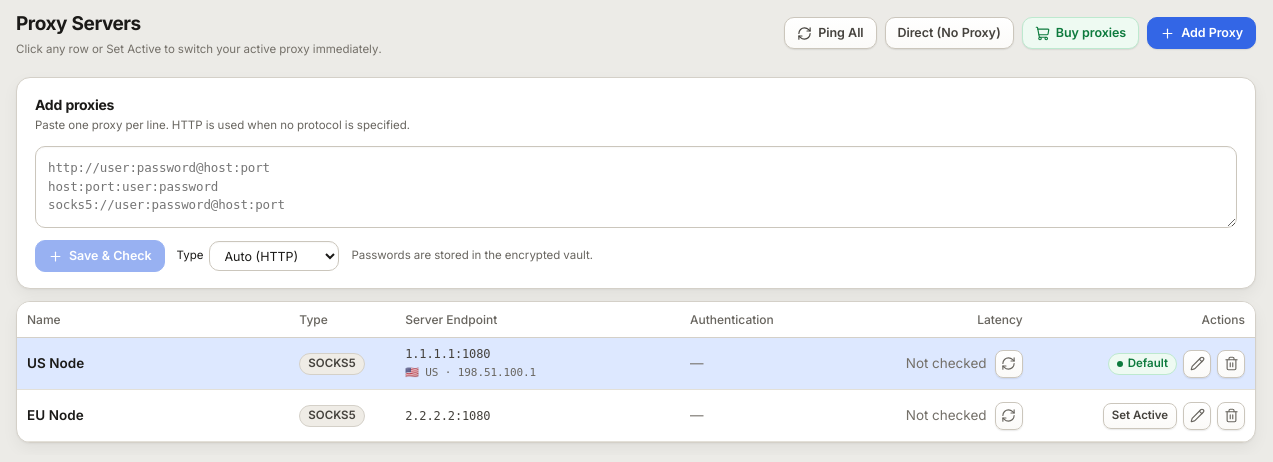
Test case: shows persisted and live-checked proxy country badges
The image size is (1273, 462).
Expected: the text titled "US · 198.51.100.1" is shown, [405,366,536,379]
What coordinates should you click on to do the following:
click the button named "Test" in the row of "EU Node"
I would click on:
 (1009, 416)
Its box is [995,402,1023,430].
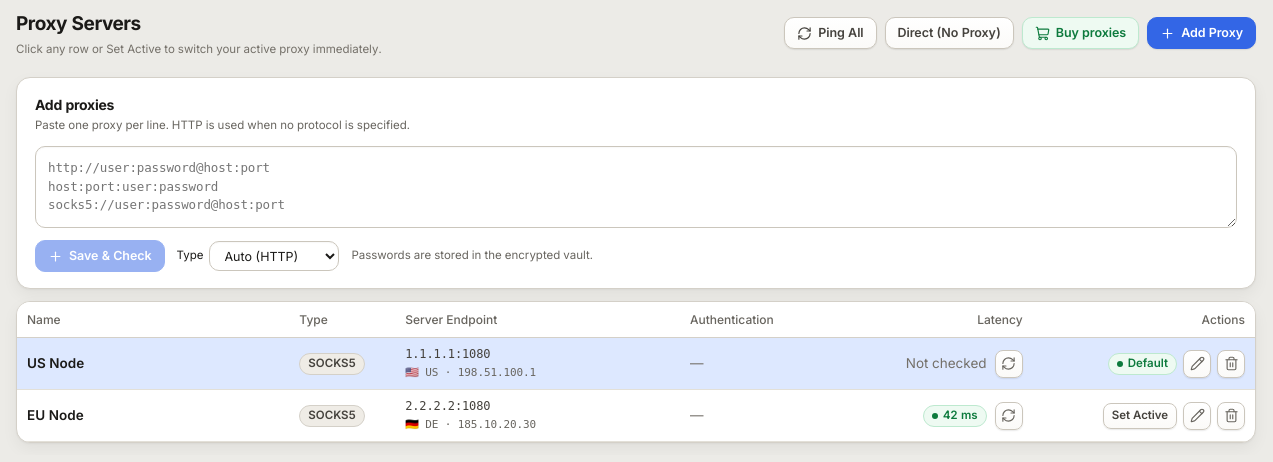
Expected: the text titled "DE · 185.10.20.30" is shown, [405,418,536,431]
